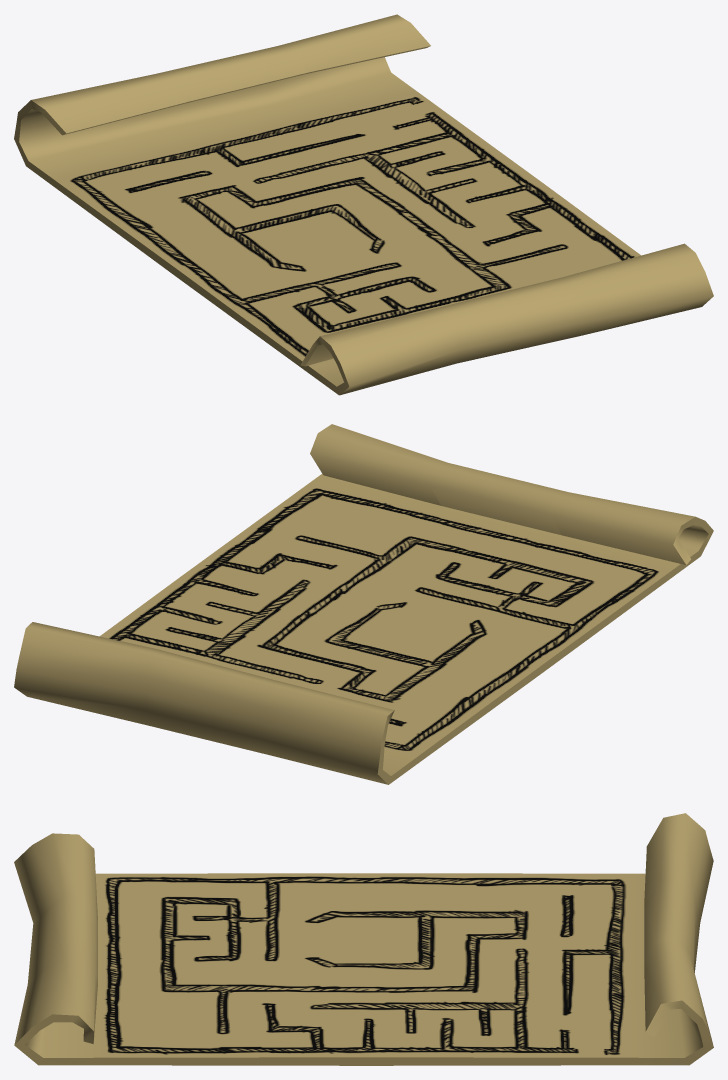
Rendered from Prop_Map_03.fbx.
3 renders of one model, top to bottom at view 1: azimuth 30°, elevation 25°; view 2: azimuth 150°, elevation 25°; view 3: azimuth 270°, elevation 25°, orthographic. The views are drawn at different scales.
Parts seen in each view (by area): view 1: Prop_Map_03; view 2: Prop_Map_03; view 3: Prop_Map_03.
Boxes of the visible parts, x1,y1,x2,y2 form: Prop_Map_03: [14, 14, 713, 395]; Prop_Map_03: [14, 424, 713, 784]; Prop_Map_03: [14, 813, 713, 1065].
Size of the model in its own units: 74.65 by 12.16 by 110.
1 material, 1 textured.
